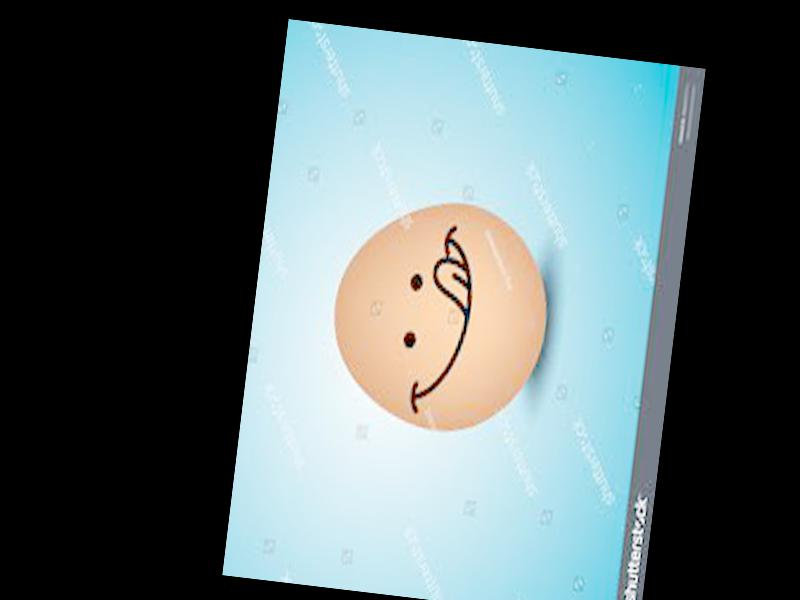Eggs: (321, 189, 559, 442)
